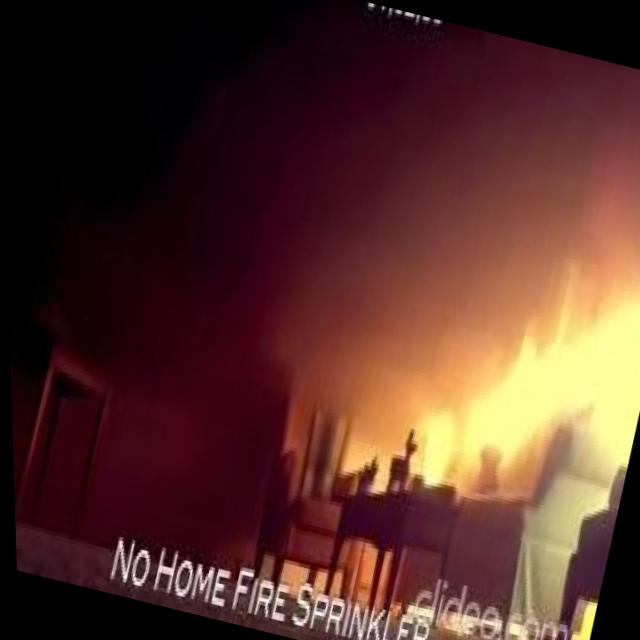fire: (442, 260, 640, 505), (405, 396, 461, 488)
